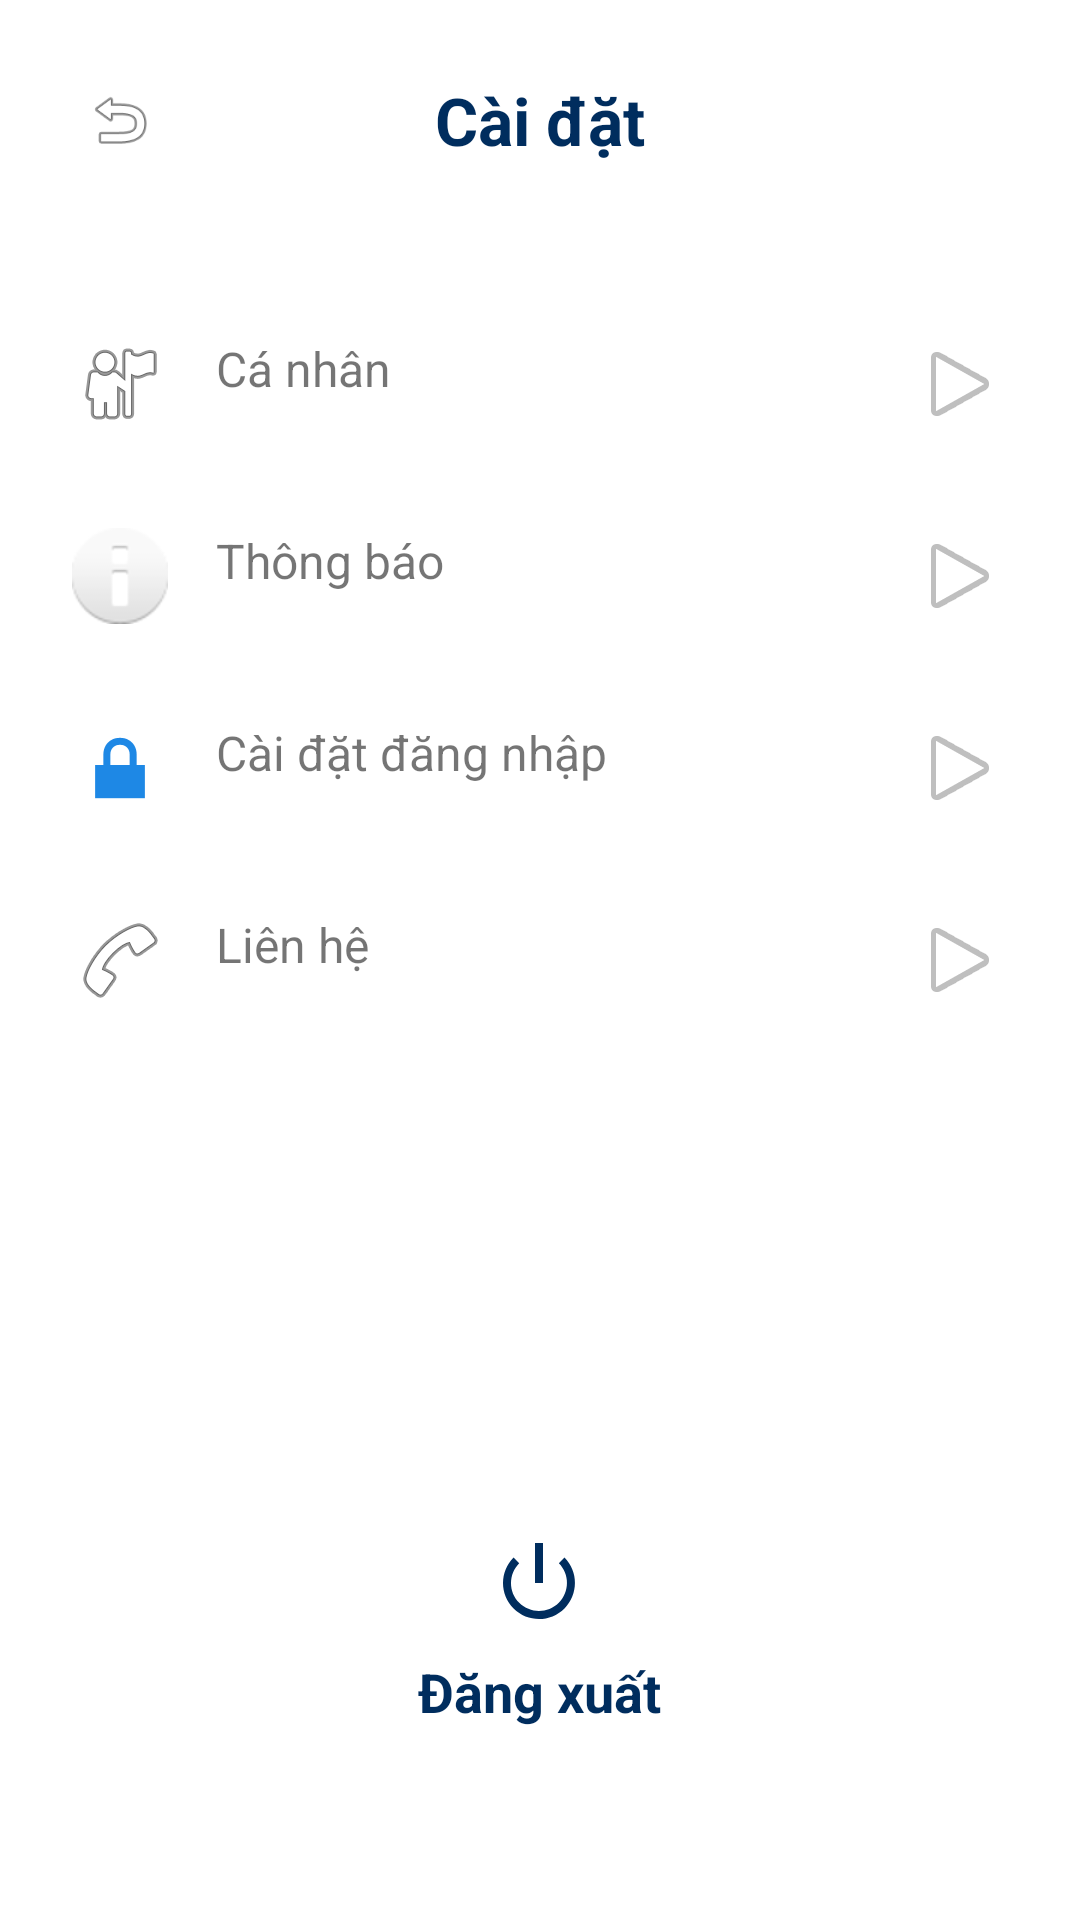

Where icons sit on this 1080w x 1920h app screen, as (x1, y1, x2, y2):
lock power off: (503, 1543, 575, 1619)
revert: (95, 97, 147, 144)
